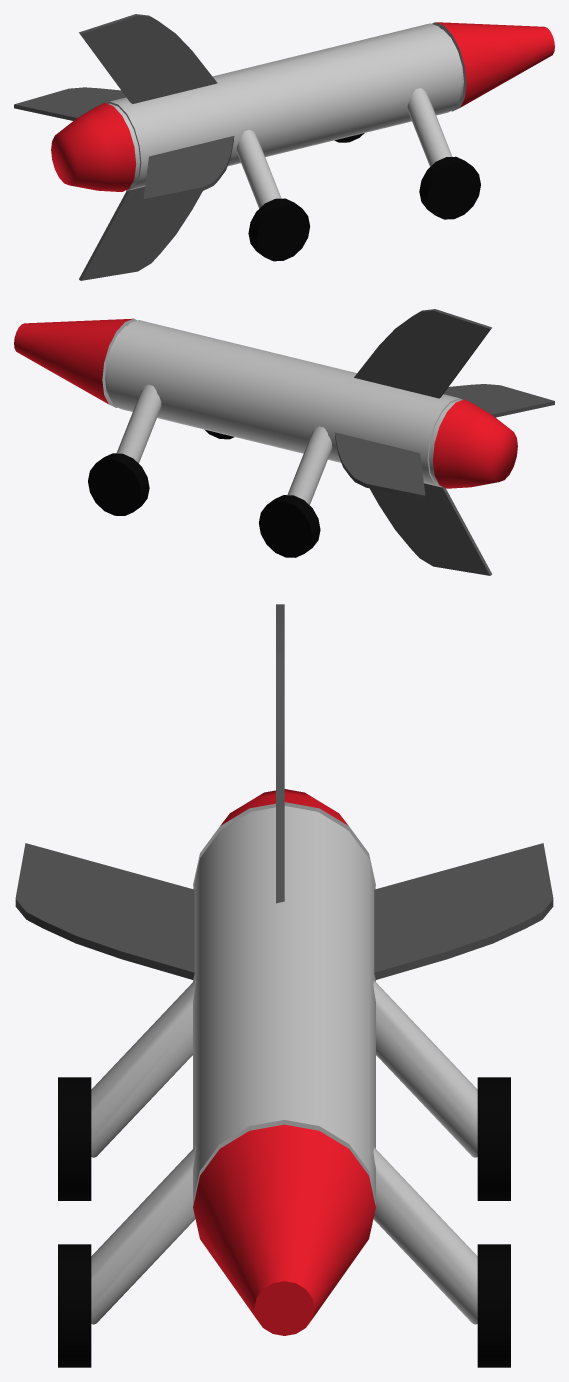
The model's file is Missel_Guiado.fbx.
The picture shows the model from 3 angles, top to bottom: view 1: azimuth 30°, elevation 25°; view 2: azimuth 150°, elevation 25°; view 3: azimuth 270°, elevation 25°; orthographic projection. The views are drawn at different scales.
Parts seen in each view (by area): view 1: Cylinder, Plane, Plane.001, Cylinder.002, Cylinder.001; view 2: Cylinder, Plane, Plane.001, Cylinder.002, Cylinder.001; view 3: Cylinder, Plane.001, Cylinder.002, Cylinder.001, Plane.
Boxes of the visible parts, left/top/right/bottom form: Cylinder: left=51, top=22, right=554, bottom=191; Plane: left=79, top=14, right=217, bottom=280; Plane.001: left=14, top=87, right=234, bottom=202; Cylinder.002: left=334, top=88, right=480, bottom=219; Cylinder.001: left=236, top=130, right=310, bottom=261; Cylinder: left=14, top=318, right=517, bottom=488; Plane: left=354, top=309, right=492, bottom=575; Plane.001: left=334, top=384, right=554, bottom=499; Cylinder.002: left=88, top=384, right=234, bottom=515; Cylinder.001: left=259, top=426, right=332, bottom=557; Cylinder: left=193, top=789, right=375, bottom=1335; Plane.001: left=15, top=843, right=553, bottom=979; Cylinder.002: left=58, top=1146, right=510, bottom=1367; Cylinder.001: left=58, top=980, right=510, bottom=1200; Plane: left=276, top=604, right=284, bottom=903.
Size of the model in its own units: 288 by 146 by 139.
